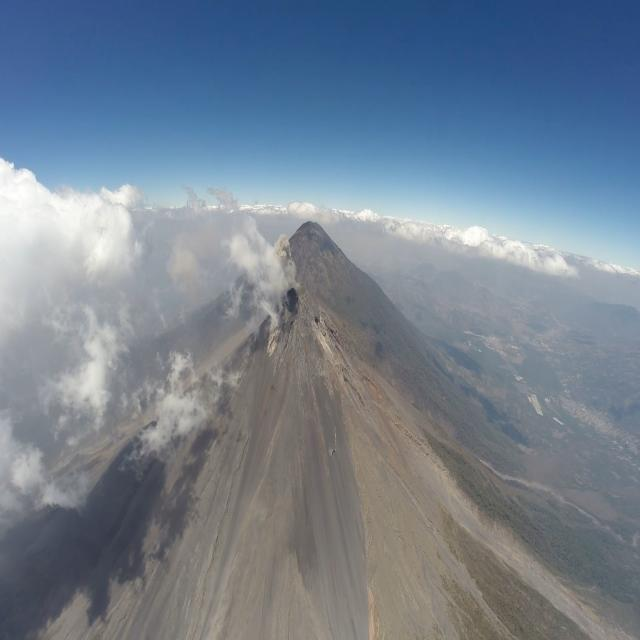Plume: (273, 228, 298, 286)
Summit: (262, 284, 357, 368)
